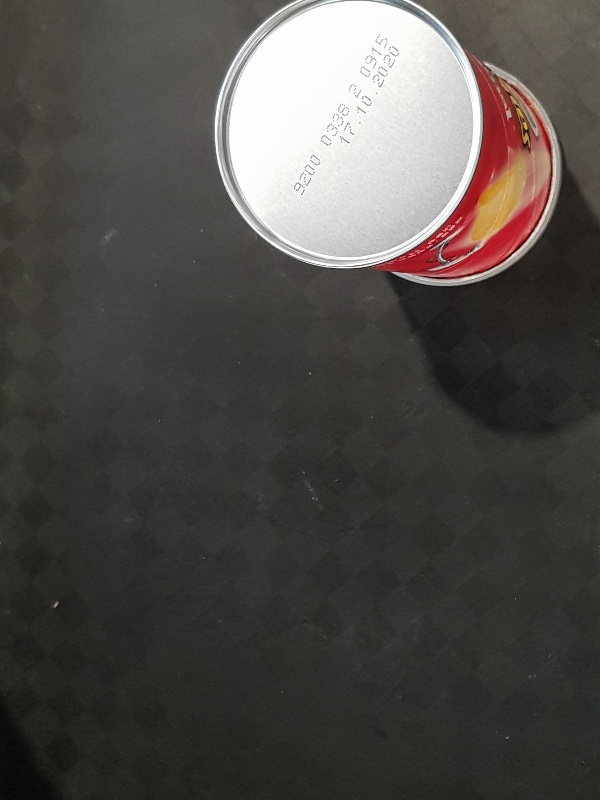Pringles Original: (211, 1, 561, 286)
